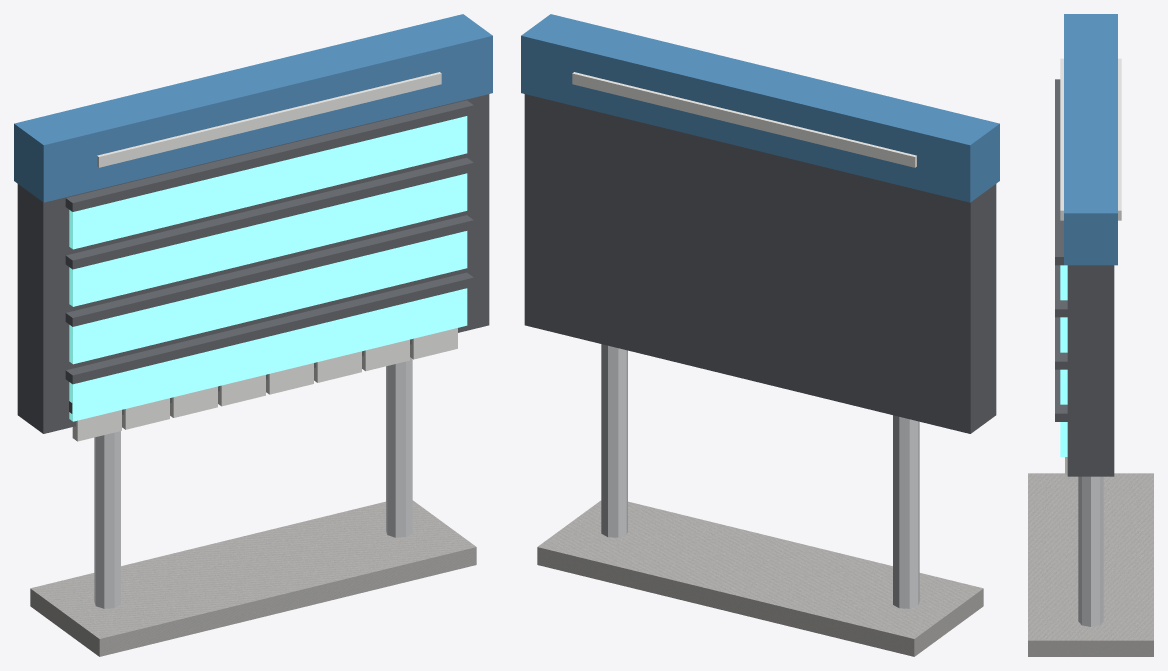
File: ferry-terminal-and-harbour-crossing-ferry-terminal-and-43678710__35654.glb
3 views of the same model, side by side, from view 1: azimuth 30°, elevation 25°; view 2: azimuth 150°, elevation 25°; view 3: azimuth 270°, elevation 25° (orthographic). The views are drawn at different scales.
Parts seen in each view (by area): view 1: ferry-terminal-and-harbour-crossing-departures-board, board-flap/cream (×8); view 2: ferry-terminal-and-harbour-crossing-departures-board; view 3: ferry-terminal-and-harbour-crossing-departures-board.
Boxes of the visible parts, x1,y1,x2,y2 form: ferry-terminal-and-harbour-crossing-departures-board: [14, 14, 492, 656]; board-flap/cream (×8): [72, 328, 457, 441]; ferry-terminal-and-harbour-crossing-departures-board: [521, 14, 999, 656]; ferry-terminal-and-harbour-crossing-departures-board: [1028, 14, 1153, 656].
Size of the model in its own units: 2.62 by 2.82 by 0.6999.
Materials: 6 (1 with a texture image).
